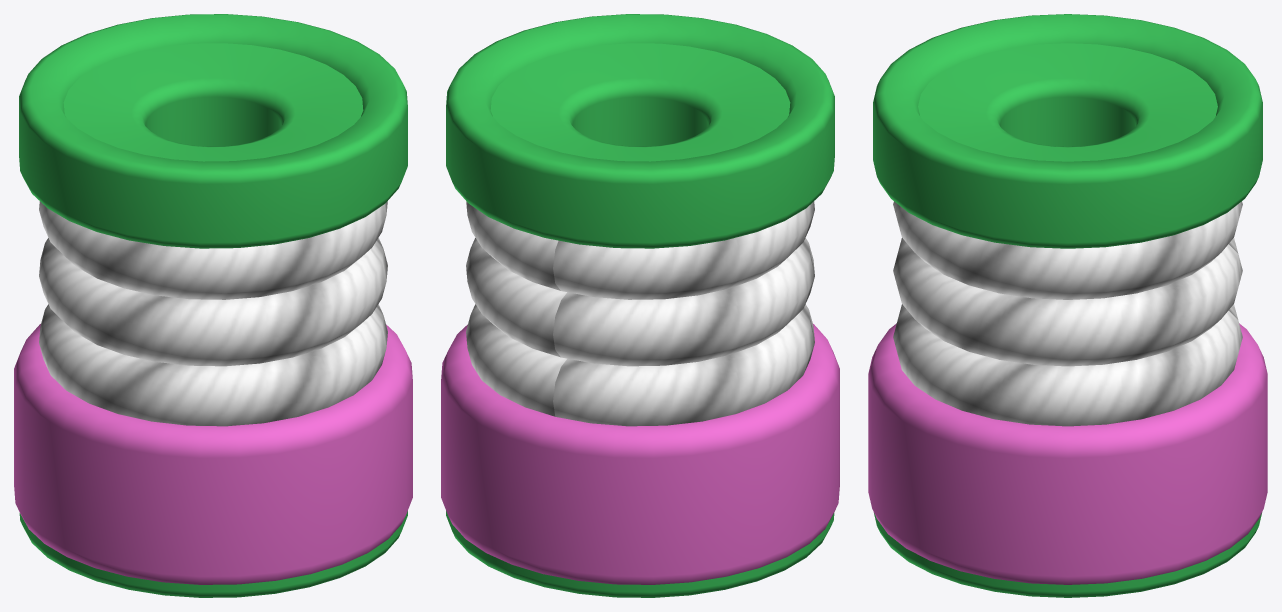
File: Bobbin.fbx
3 renders of one model, left to right at view 1: azimuth 30°, elevation 25°; view 2: azimuth 150°, elevation 25°; view 3: azimuth 270°, elevation 25°, orthographic.
Parts seen in each view (by area): view 1: activeVisual, inactiveVisual, Rope_Circle__5_, Rope_Circle__6_, Rope_Circle__4_; view 2: activeVisual, inactiveVisual, Rope_Circle__5_, Rope_Circle__6_, Rope_Circle__4_; view 3: activeVisual, inactiveVisual, Rope_Circle__5_, Rope_Circle__6_, Rope_Circle__4_.
Boxes of the visible parts, x1,y1,x2,y2 form: activeVisual: (19,14,407,597); inactiveVisual: (14,324,412,584); Rope_Circle__5_: (39,238,387,366); Rope_Circle__6_: (39,304,387,426); Rope_Circle__4_: (39,201,387,299); activeVisual: (446,14,834,597); inactiveVisual: (441,324,839,584); Rope_Circle__5_: (466,238,814,366); Rope_Circle__6_: (466,304,814,426); Rope_Circle__4_: (466,201,814,299); activeVisual: (873,14,1262,597); inactiveVisual: (868,323,1267,584); Rope_Circle__5_: (893,238,1242,366); Rope_Circle__6_: (893,304,1242,426); Rope_Circle__4_: (893,201,1242,299).
Size of the model in its own units: 29.98 by 35.46 by 29.98.
